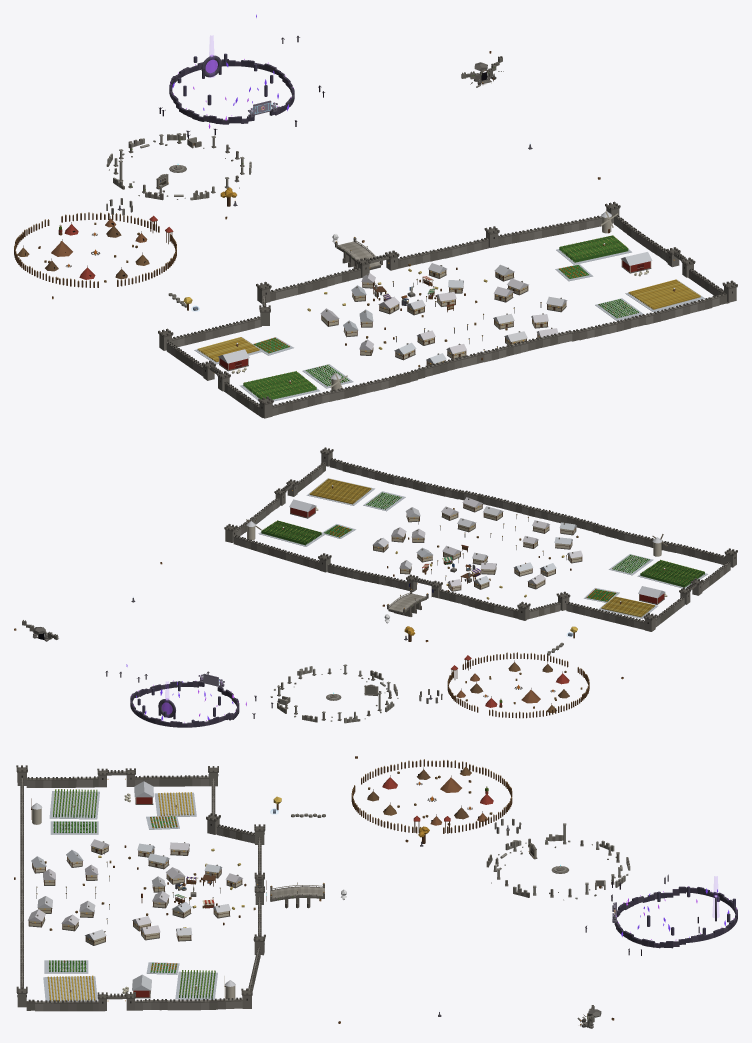
File: vale.glb
3 renders of one model, top to bottom at view 1: azimuth 30°, elevation 25°; view 2: azimuth 150°, elevation 25°; view 3: azimuth 270°, elevation 25°, orthographic. The views are drawn at different scales.
Parts seen in each view (by area): view 1: estatico, mundo; view 2: estatico, mundo; view 3: estatico.
Part boxes in pixels (x1,y1,x2,y2): estatico: [14, 36, 737, 418]; mundo: [38, 36, 600, 311]; estatico: [22, 447, 737, 727]; mundo: [14, 562, 623, 717]; estatico: [14, 759, 737, 1028].
Size of what is drawn, in the model's own units: 310 by 35.38 by 344.
16 materials, 1 textured.
